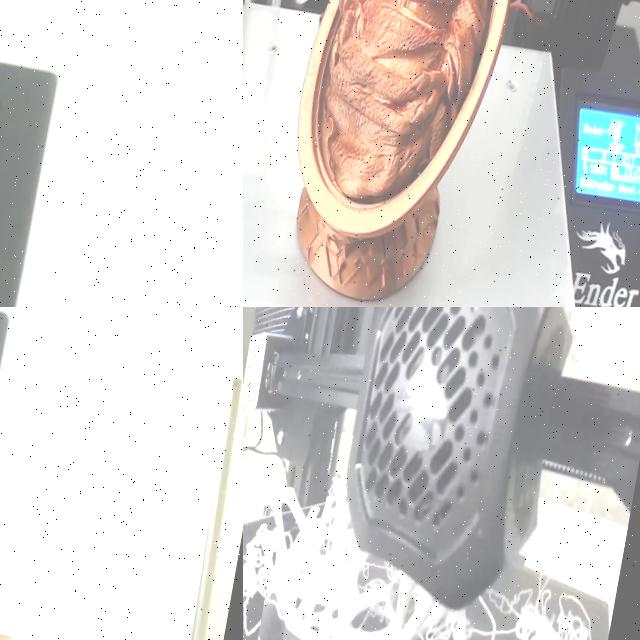spaghetti: (484, 561, 624, 640), (243, 466, 286, 640)
